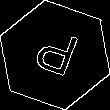P_S: (28, 25, 82, 85)
